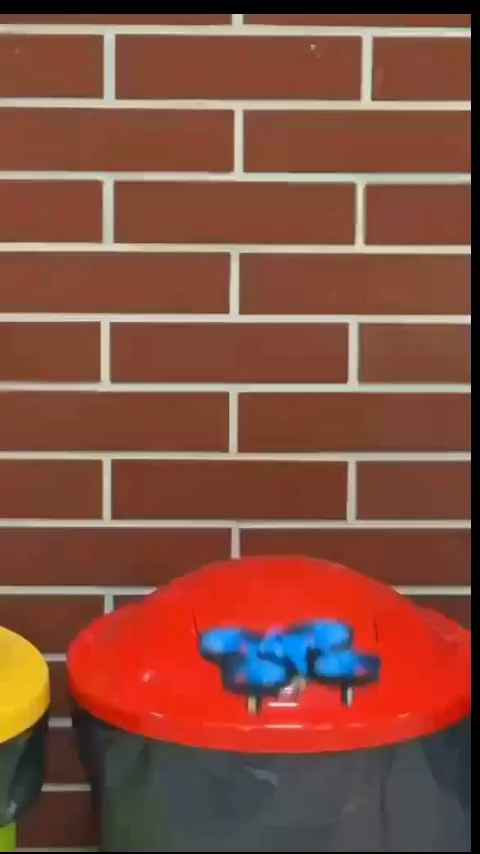drone: (195, 622, 384, 712)
